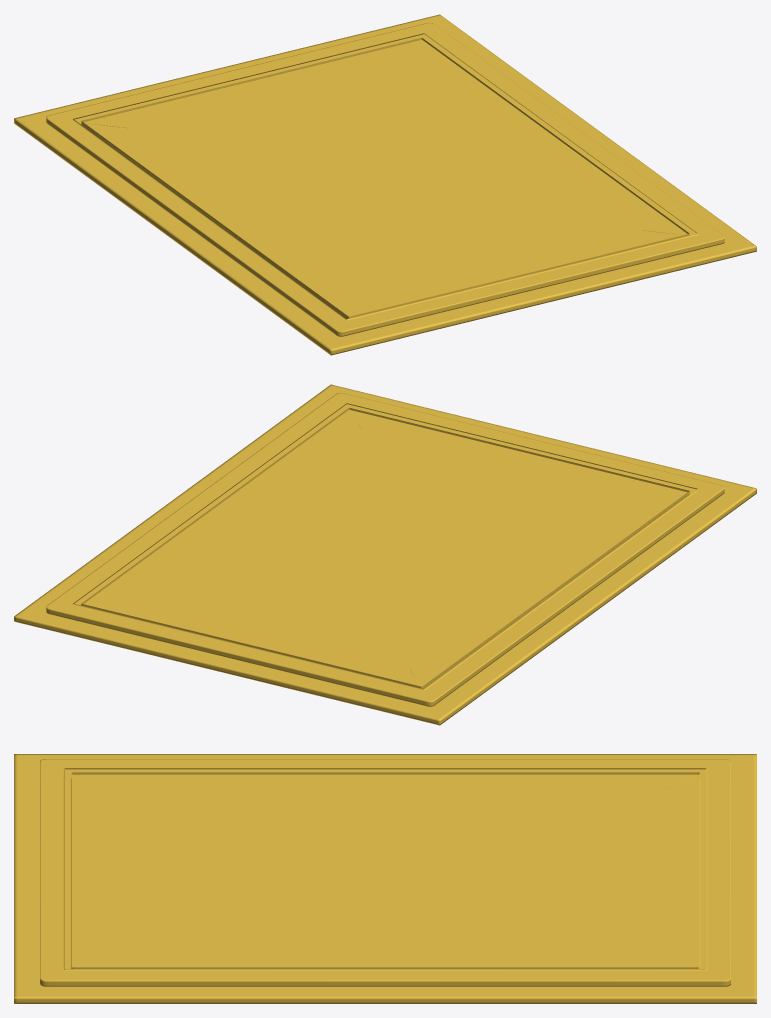
File: TransitionSpaceLight.fbx
3 renders of one model, top to bottom at view 1: azimuth 30°, elevation 25°; view 2: azimuth 150°, elevation 25°; view 3: azimuth 270°, elevation 25°, orthographic. The views are drawn at different scales.
Parts seen in each view (by area): view 1: Plane019; view 2: Plane019; view 3: Plane019.
Part boxes in pixels (<box>): Plane019: <box>14,14,756,355</box>; Plane019: <box>14,384,756,725</box>; Plane019: <box>14,754,756,1003</box>.
Bounding box in the file's own units: 139 × 5.21 × 179.
